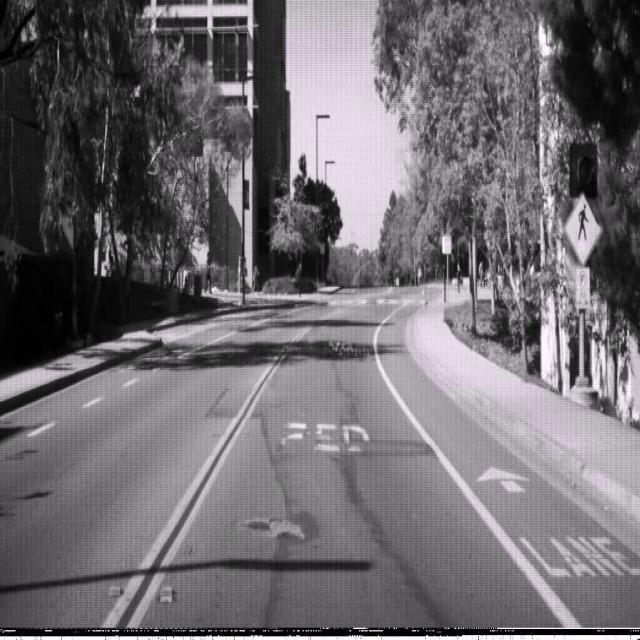pedestrianCrossing: (562, 190, 602, 267)
